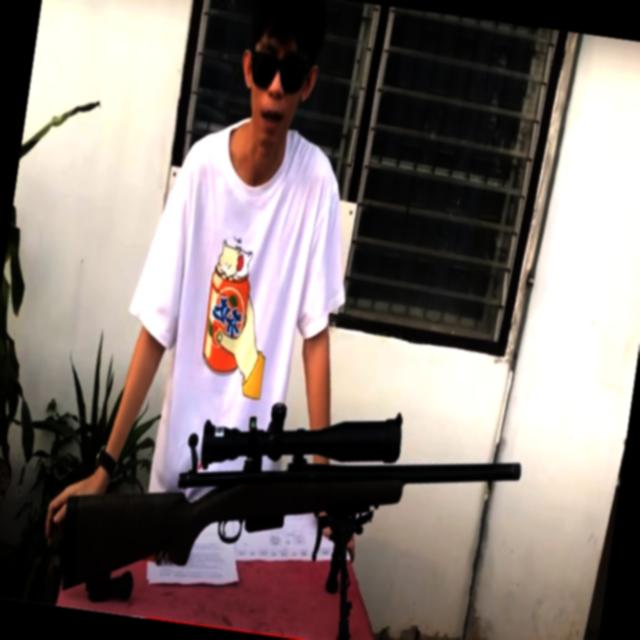rifle: (46, 360, 536, 640)
